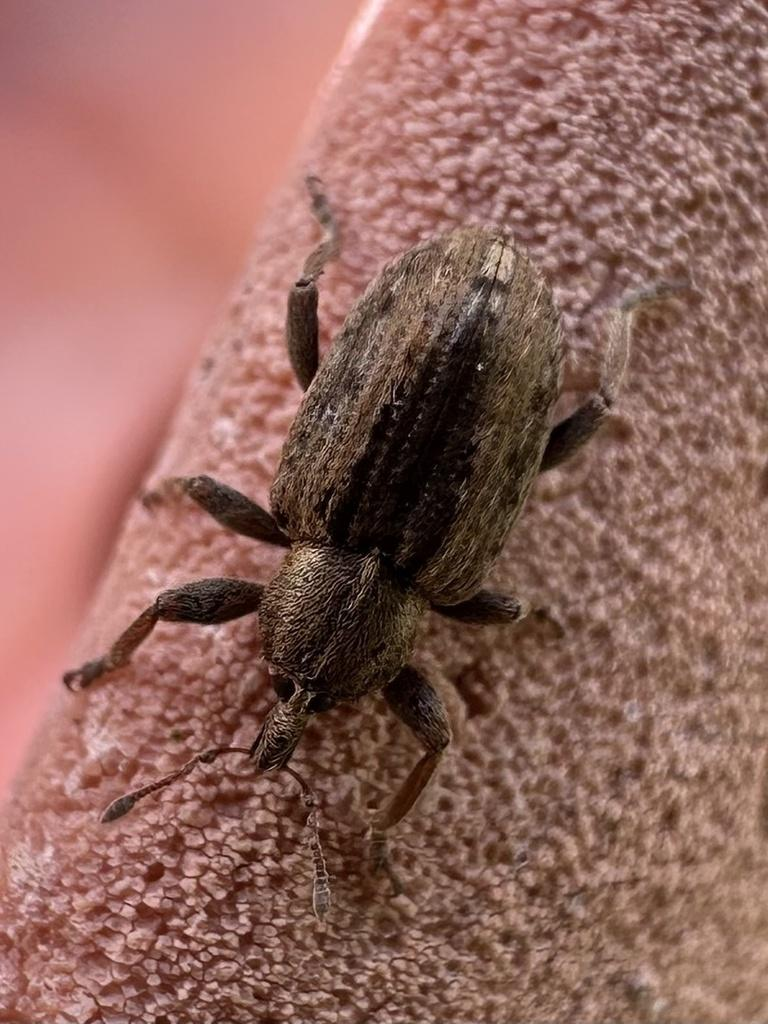weevils: (0, 121, 768, 993)
